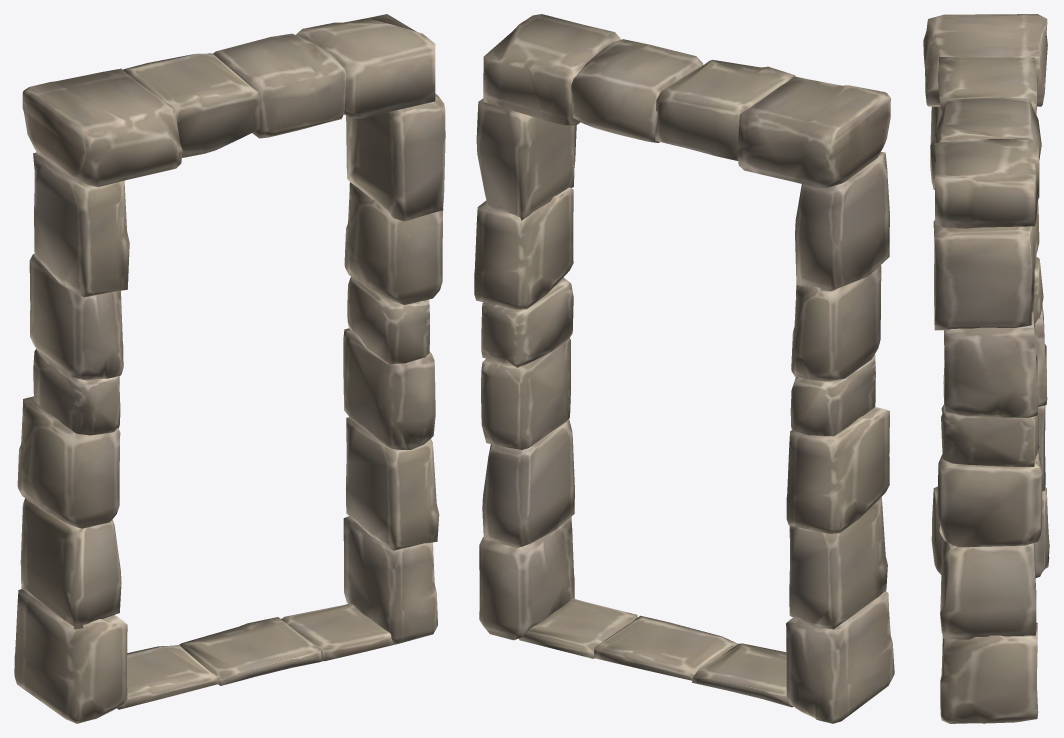
File: doorframe_flat_brick.glb
The picture shows the model from 3 angles, left to right: view 1: azimuth 30°, elevation 25°; view 2: azimuth 150°, elevation 25°; view 3: azimuth 270°, elevation 25°; orthographic projection. The views are drawn at different scales.
Size of the model in its own units: 1.57 by 2.38 by 0.4943.
1 material, 1 textured.
